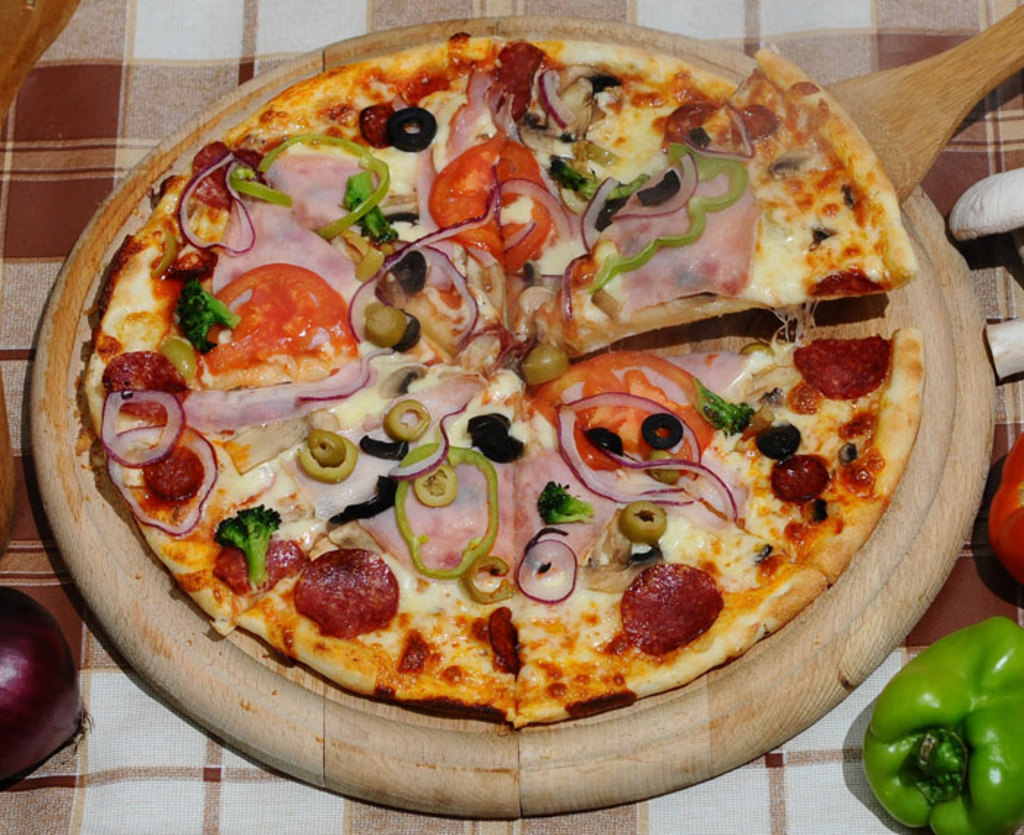Pizza: (80, 30, 924, 728)
